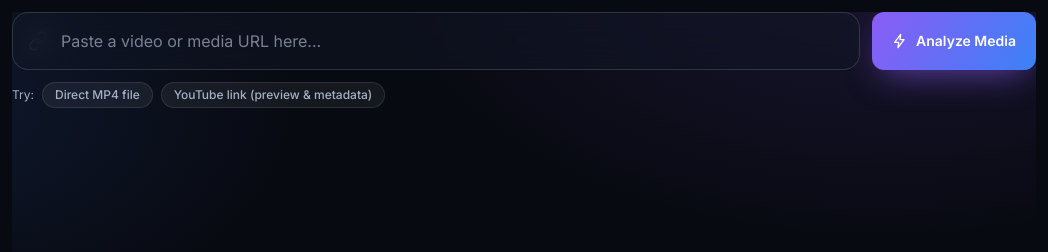
Scenario: UrlAnalyzer › shows the server error with retry for upstream failures
Type "https://cdn.example.com/gone.mp4" into the field labelled "Paste a video or media URL here..." at (436, 41), box [12, 12, 860, 70]
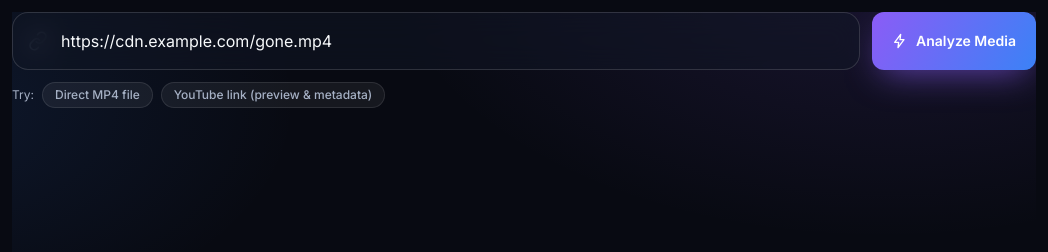
Submit the form named "media url", box [12, 12, 1036, 70]
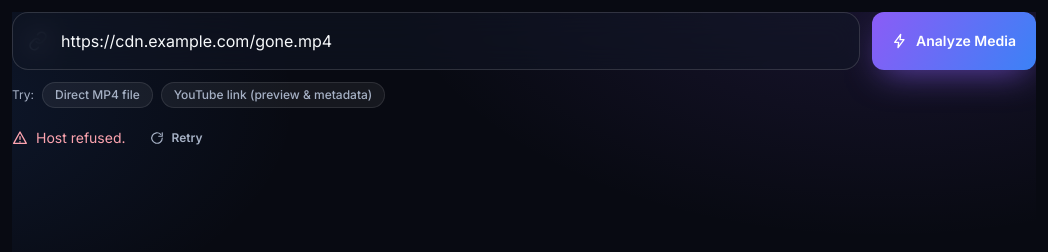
Check: the text "Host refused." is shown, box [12, 128, 126, 148]
Check: the button "Retry" is shown, box [138, 124, 214, 152]
